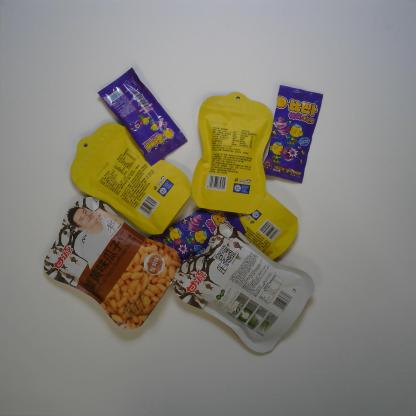Candy: (97, 66, 188, 168), (263, 84, 324, 185), (147, 208, 247, 266)
Dried Fruit: (172, 221, 314, 354), (43, 196, 181, 331), (69, 122, 192, 236), (191, 91, 274, 215), (237, 190, 298, 261)
